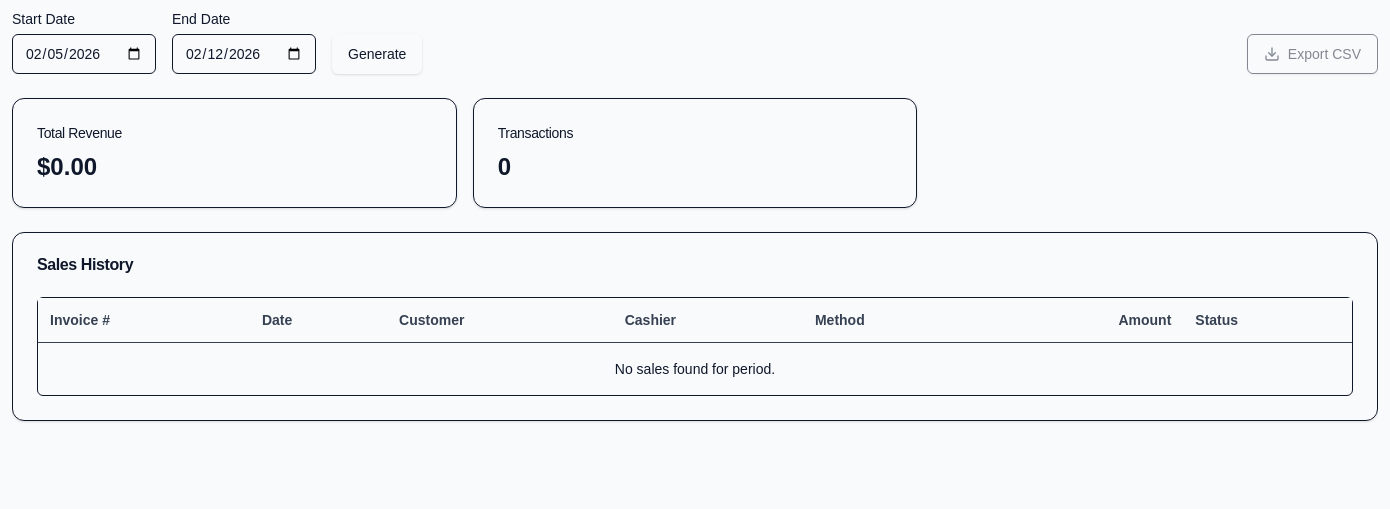
Test: SalesSummaryPage › shows offline banner on RPC failure
Click the button "Generate".
click(377, 54)  # box [332,34,422,74]
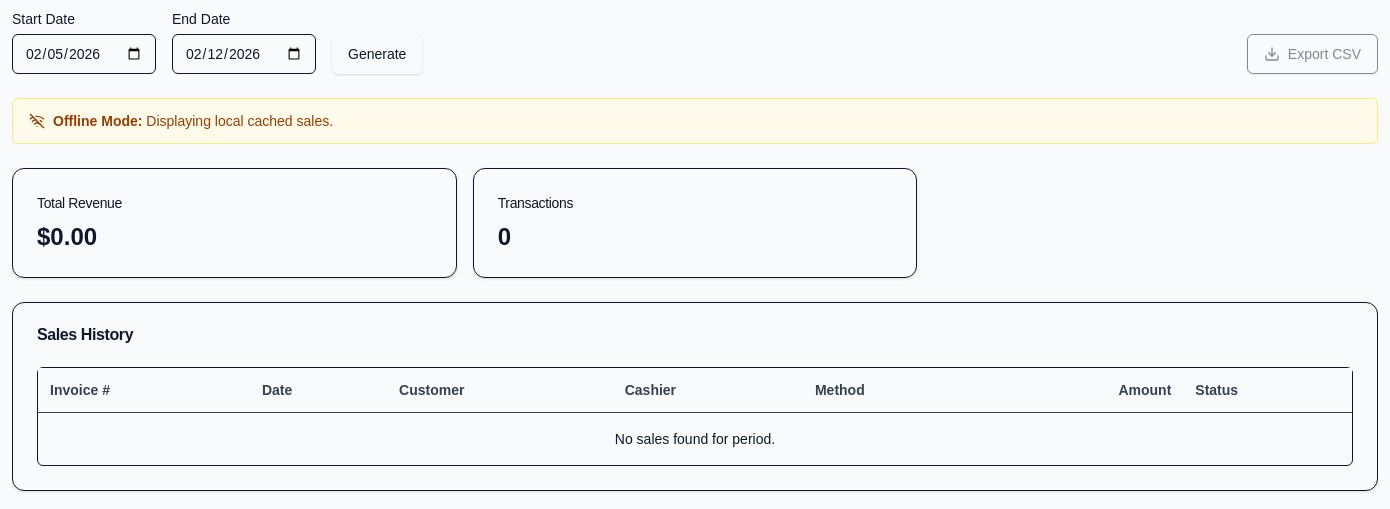
Check: the text "Offline Mode:" is shown, box [53,113,142,129]
